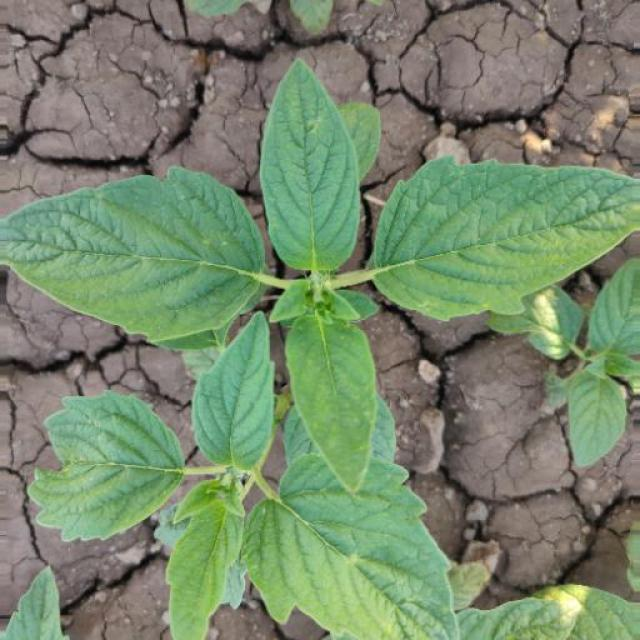crop: (6, 58, 639, 478), (30, 306, 509, 640)
